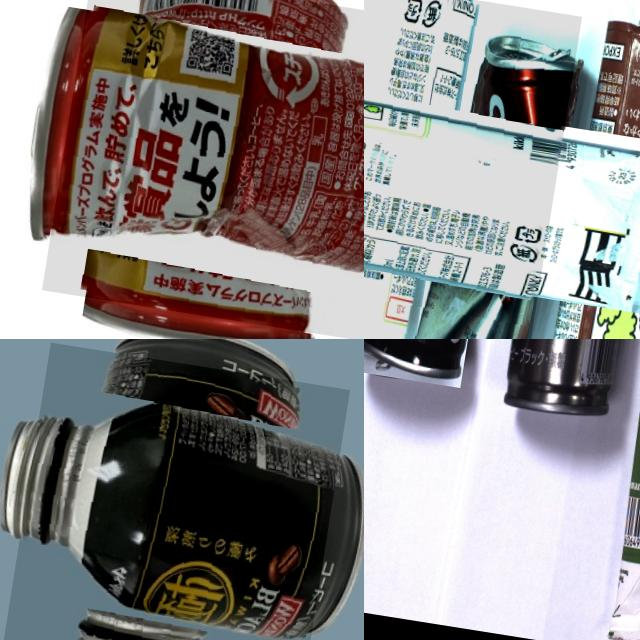Aluminium Foil: (364, 0, 582, 339), (517, 0, 640, 339), (581, 339, 640, 640)
Can: (42, 0, 364, 339), (3, 342, 350, 640), (417, 16, 582, 339)
